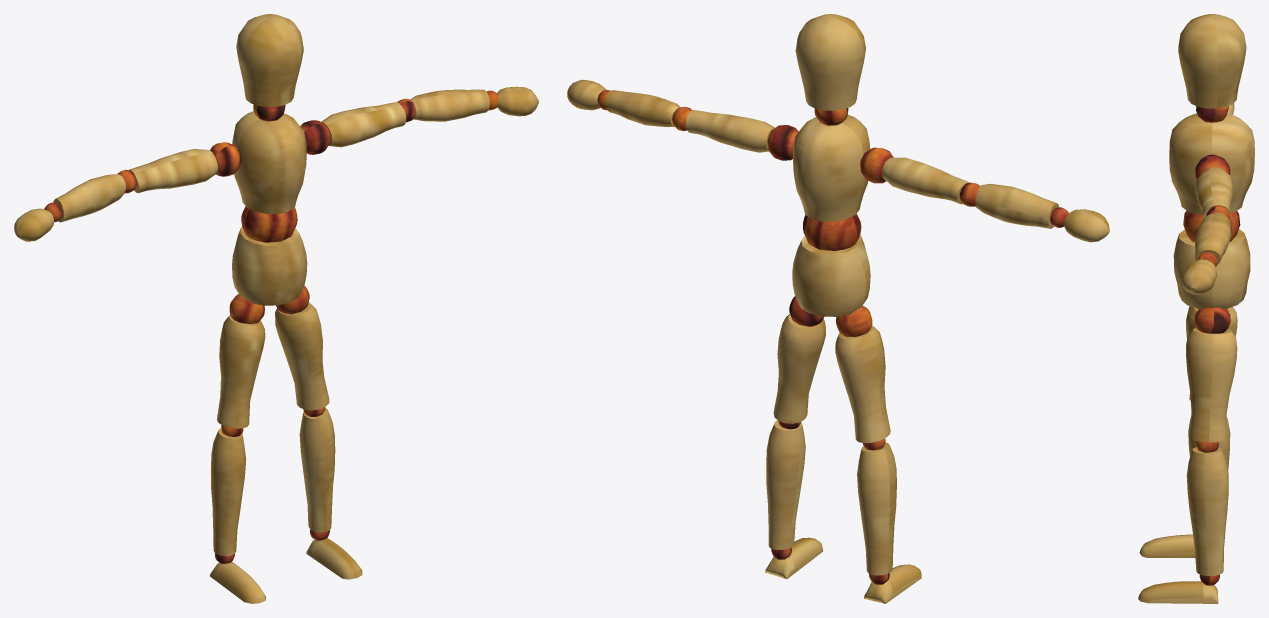
Rendered from WoodDoll.obj.
3 renders of one model, left to right at view 1: azimuth 30°, elevation 25°; view 2: azimuth 150°, elevation 25°; view 3: azimuth 270°, elevation 25°, orthographic. The views are drawn at different scales.
Parts seen in each view (by area): view 1: Cuerpo, Cabeza, Muslo_R, Pelvis, Muslo_L, Pierna_R, Pierna_L, Antebrazo_R, AnteBrazo_L, Brazo_L, Brazo_R, Pie_R (+3 smaller); view 2: Cuerpo, Cabeza, Muslo_R, Pelvis, Pierna_R, Muslo_L, Pierna_L, AnteBrazo_L, Antebrazo_R, Brazo_R, Brazo_L, Mano_R (+3 smaller); view 3: Cuerpo, Cabeza, Muslo_L, Pierna_L, Pelvis, AnteBrazo_L, Pie_L, Brazo_L, Mano_L, Pie_R, Muslo_R, Pierna_R.
Part boxes in pixels (x1,y1,x2,y2): Cuerpo: (232,111,306,242); Cabeza: (236,14,303,121); Muslo_R: (217,294,265,428); Pelvis: (232,226,307,305); Muslo_L: (275,285,329,410); Pierna_R: (211,425,246,555); Pierna_L: (299,407,335,532); Antebrazo_R: (129,142,241,193); AnteBrazo_L: (300,102,406,154); Brazo_L: (397,89,489,122); Brazo_R: (53,169,136,222); Pie_R: (210,553,265,603); Cuerpo: (793,115,870,250); Cabeza: (795,14,865,125); Muslo_R: (835,305,890,443); Pelvis: (792,235,870,316); Pierna_R: (857,438,896,575); Muslo_L: (773,296,825,423); Pierna_L: (766,420,805,549); AnteBrazo_L: (686,110,798,160); Antebrazo_R: (860,147,969,204); Brazo_R: (959,182,1058,228); Brazo_L: (604,90,691,131); Mano_R: (1050,207,1109,242); Cuerpo: (1169,113,1254,242); Cabeza: (1178,14,1246,122); Muslo_L: (1186,307,1237,442); Pierna_L: (1186,441,1228,576); Pelvis: (1173,229,1250,309); AnteBrazo_L: (1195,154,1233,218); Pie_L: (1138,574,1219,603); Brazo_L: (1195,205,1231,264); Mano_L: (1181,252,1217,294); Pie_R: (1139,534,1195,557); Muslo_R: (1186,306,1237,399); Pierna_R: (1188,417,1230,470).
Size of the model in its own units: 6.86 by 6.92 by 1.31.
